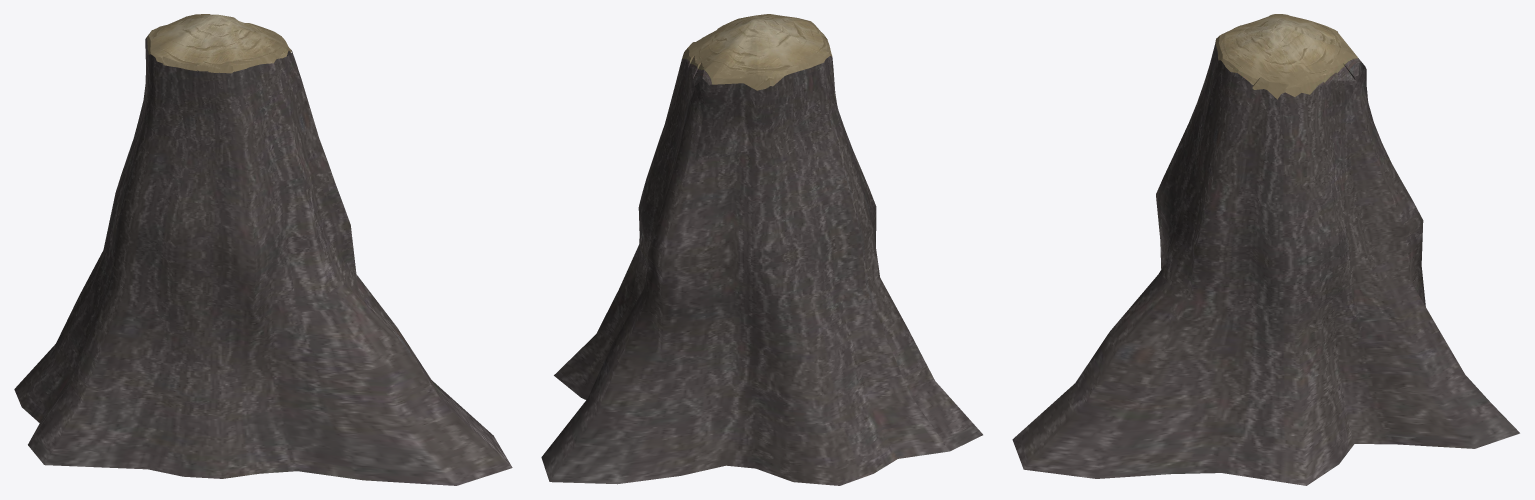
The picture shows the model from 3 angles, left to right: view 1: azimuth 30°, elevation 25°; view 2: azimuth 150°, elevation 25°; view 3: azimuth 270°, elevation 25°; orthographic projection. The views are drawn at different scales.
Visible parts, largest first — view 1: SM_BM_Oak_Tree_01_stump_LOD0; view 2: SM_BM_Oak_Tree_01_stump_LOD0; view 3: SM_BM_Oak_Tree_01_stump_LOD0.
Boxes of the visible parts, <box> form: SM_BM_Oak_Tree_01_stump_LOD0: <box>14,14,512,485</box>; SM_BM_Oak_Tree_01_stump_LOD0: <box>541,14,982,485</box>; SM_BM_Oak_Tree_01_stump_LOD0: <box>1012,14,1519,485</box>.
Size of the model in its own units: 2.7 by 2.58 by 3.2.
Materials: 1 (1 with a texture image).
